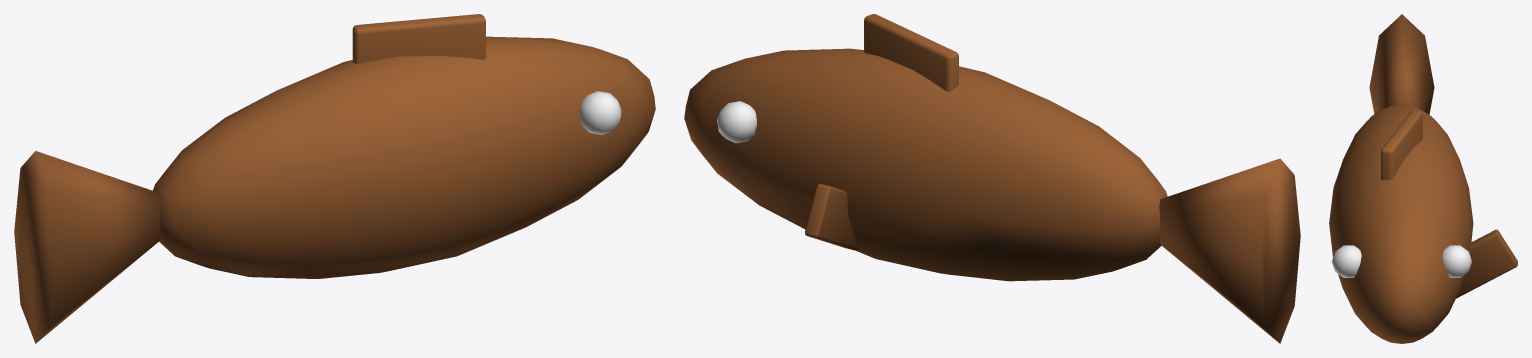
Rendered from cooked-fish.obj.
3 renders of one model, left to right at view 1: azimuth 30°, elevation 25°; view 2: azimuth 150°, elevation 25°; view 3: azimuth 270°, elevation 25°, orthographic. The views are drawn at different scales.
Parts seen in each view (by area): view 1: cooked-fish; view 2: cooked-fish; view 3: cooked-fish.
Part boxes in pixels (x1,y1,x2,y2): cooked-fish: [14, 14, 655, 343]; cooked-fish: [684, 14, 1300, 343]; cooked-fish: [1329, 14, 1517, 343].
Size of the model in its own units: 0.6368 by 0.231 by 0.2205.
